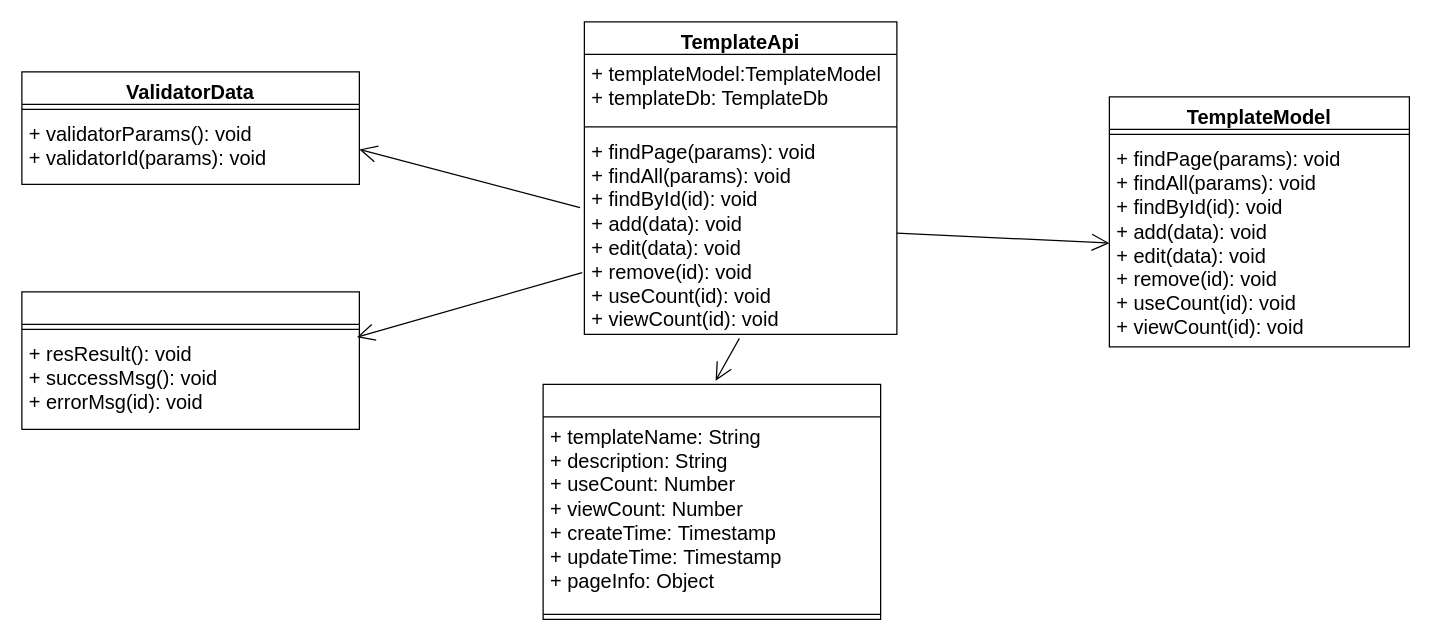
This 1431x641 diagram has some shape labels left out. Each missing label, with the box of its shape:
ResponseMsg: (21, 291, 359, 429)
TemplateDb: (542, 383, 881, 619)
